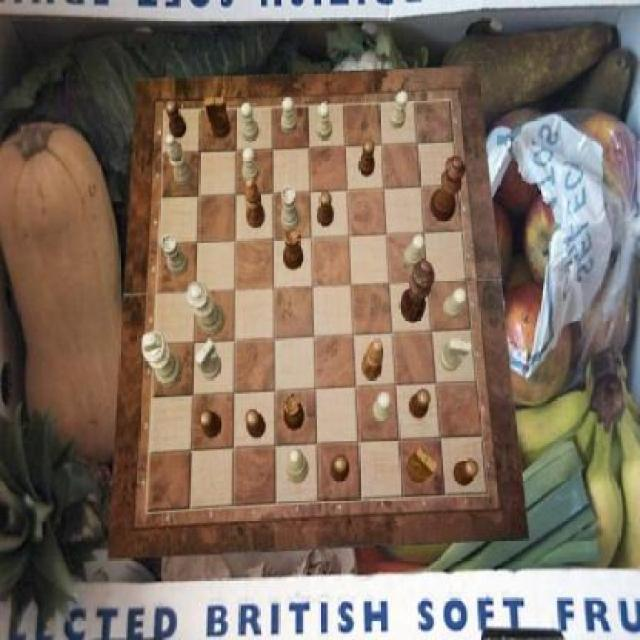bishop: (244, 177, 266, 229), (361, 340, 384, 382)
black-bishop: (400, 258, 435, 322)
black-king: (204, 97, 232, 138), (408, 446, 438, 482)
black-knight: (166, 100, 186, 138), (409, 389, 432, 420), (358, 139, 376, 176), (454, 459, 478, 486), (200, 411, 223, 438), (317, 191, 334, 227), (246, 411, 266, 438), (331, 454, 350, 481)
black-pawn: (431, 156, 466, 222)
black-queen: (283, 228, 304, 270), (284, 392, 306, 430)
black-rook: (166, 134, 194, 186), (286, 449, 309, 484)
white-bishop: (143, 331, 183, 388)
white-king: (440, 338, 472, 372), (196, 340, 222, 380)
white-knight: (240, 103, 259, 143), (404, 234, 426, 268), (389, 91, 408, 129), (443, 288, 466, 318), (372, 391, 392, 422), (280, 98, 297, 134), (316, 103, 332, 141), (243, 148, 260, 182)
white-pawn: (188, 282, 225, 336)
white-queen: (162, 234, 189, 276), (282, 186, 300, 232)
